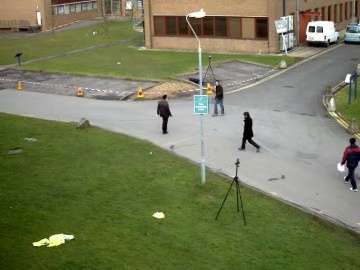person: (240, 111, 259, 153), (156, 95, 173, 135), (211, 79, 226, 115)
